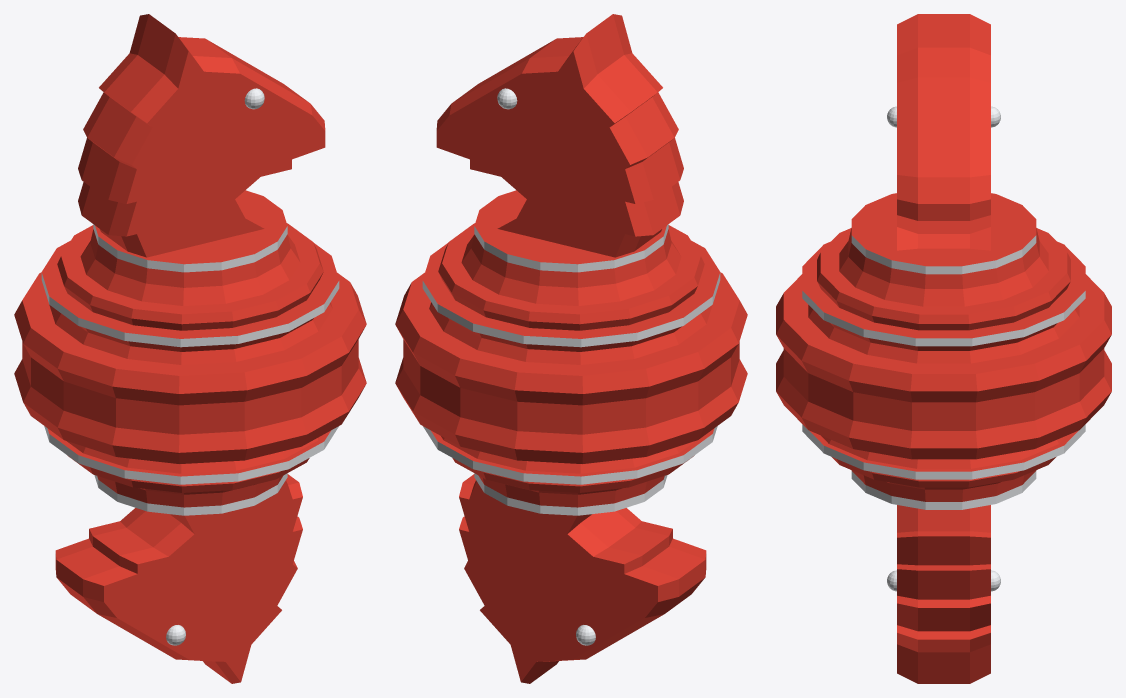
The model's file is knight-deco.glb.
3 renders of one model, left to right at view 1: azimuth 30°, elevation 25°; view 2: azimuth 150°, elevation 25°; view 3: azimuth 270°, elevation 25°, orthographic. The views are drawn at different scales.
Visible parts, largest first — view 1: knight-deco; view 2: knight-deco; view 3: knight-deco.
Part boxes in pixels (<box>): knight-deco: <box>14,14,366,683</box>; knight-deco: <box>395,14,747,683</box>; knight-deco: <box>776,14,1111,683</box>.
Bounding box in the file's own units: 0.4597 × 0.9718 × 0.4597.
